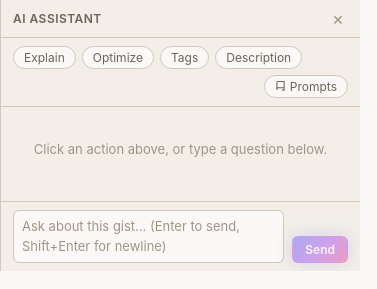
Scenario: AIPanel › on aiChat error, appends an error message and stops streaming
Step 1. Click the button "Explain" → (44, 58), box [13, 46, 76, 69]
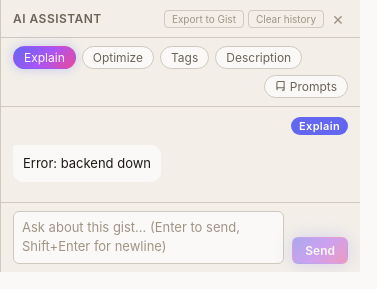
Check: the text "Error: backend down" is shown, box [13, 145, 161, 182]
